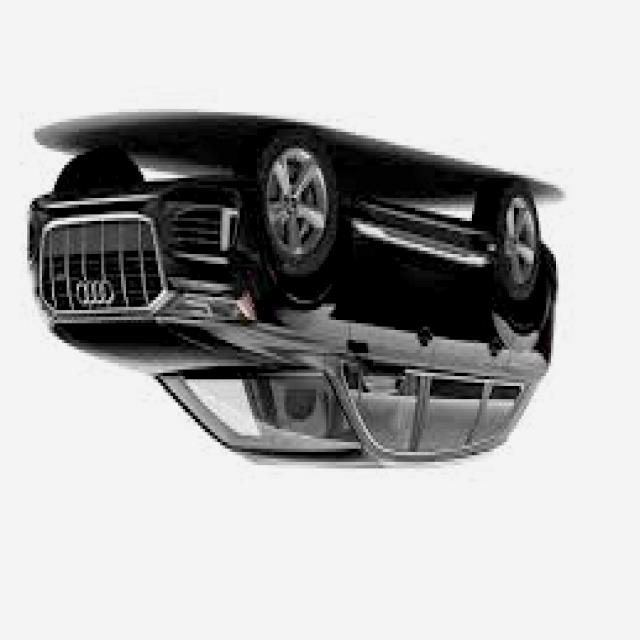black: (33, 126, 560, 472)
